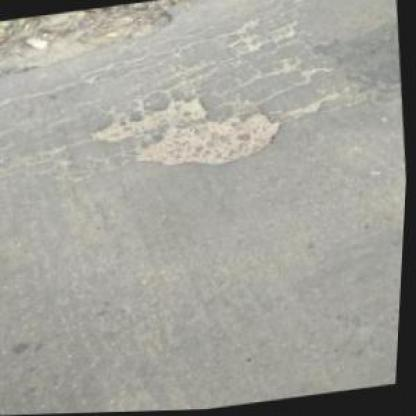pothole: (83, 83, 287, 182)
